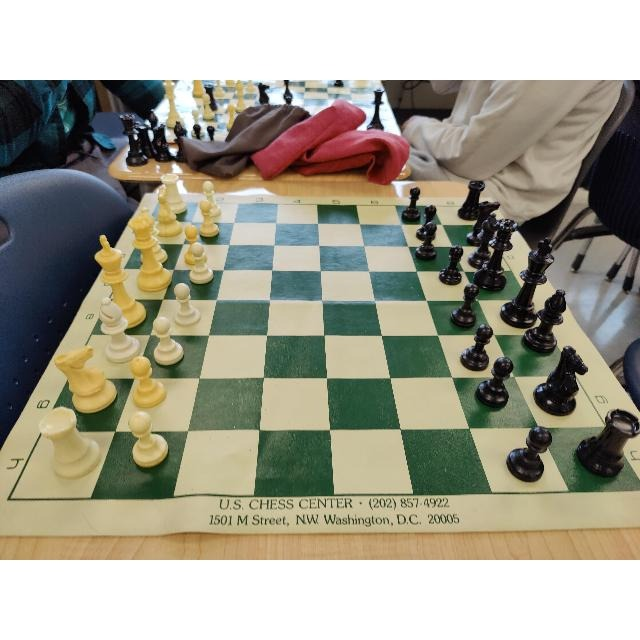black-bishop: (523, 289, 567, 354), (467, 213, 499, 269)
black-king: (500, 237, 555, 328), (367, 88, 385, 132)
black-knight: (534, 343, 589, 417), (467, 201, 499, 247), (258, 83, 270, 105)
black-pawn: (507, 426, 553, 483), (476, 356, 514, 407), (460, 323, 494, 370), (450, 284, 479, 328), (439, 244, 463, 285), (417, 204, 437, 239), (402, 188, 422, 222), (283, 80, 293, 99), (286, 97, 292, 105)
black-queen: (473, 219, 518, 291)
black-rook: (576, 407, 639, 479), (459, 178, 485, 221), (205, 84, 217, 109)
white-bishop: (99, 297, 140, 363), (138, 207, 168, 264), (235, 80, 246, 112)
white-king: (96, 235, 146, 329), (163, 80, 185, 127)
white-knight: (54, 345, 117, 413), (156, 189, 184, 236)
white-pawn: (127, 410, 168, 467), (130, 356, 168, 408), (152, 316, 184, 365), (175, 283, 201, 325), (188, 243, 213, 285), (198, 200, 219, 238), (184, 224, 200, 264), (204, 181, 222, 216), (192, 109, 204, 137), (202, 94, 215, 119), (226, 105, 235, 131), (215, 80, 225, 96)
white-queen: (128, 215, 172, 292)
white-rook: (38, 406, 101, 479), (162, 174, 188, 215), (193, 80, 205, 97)
